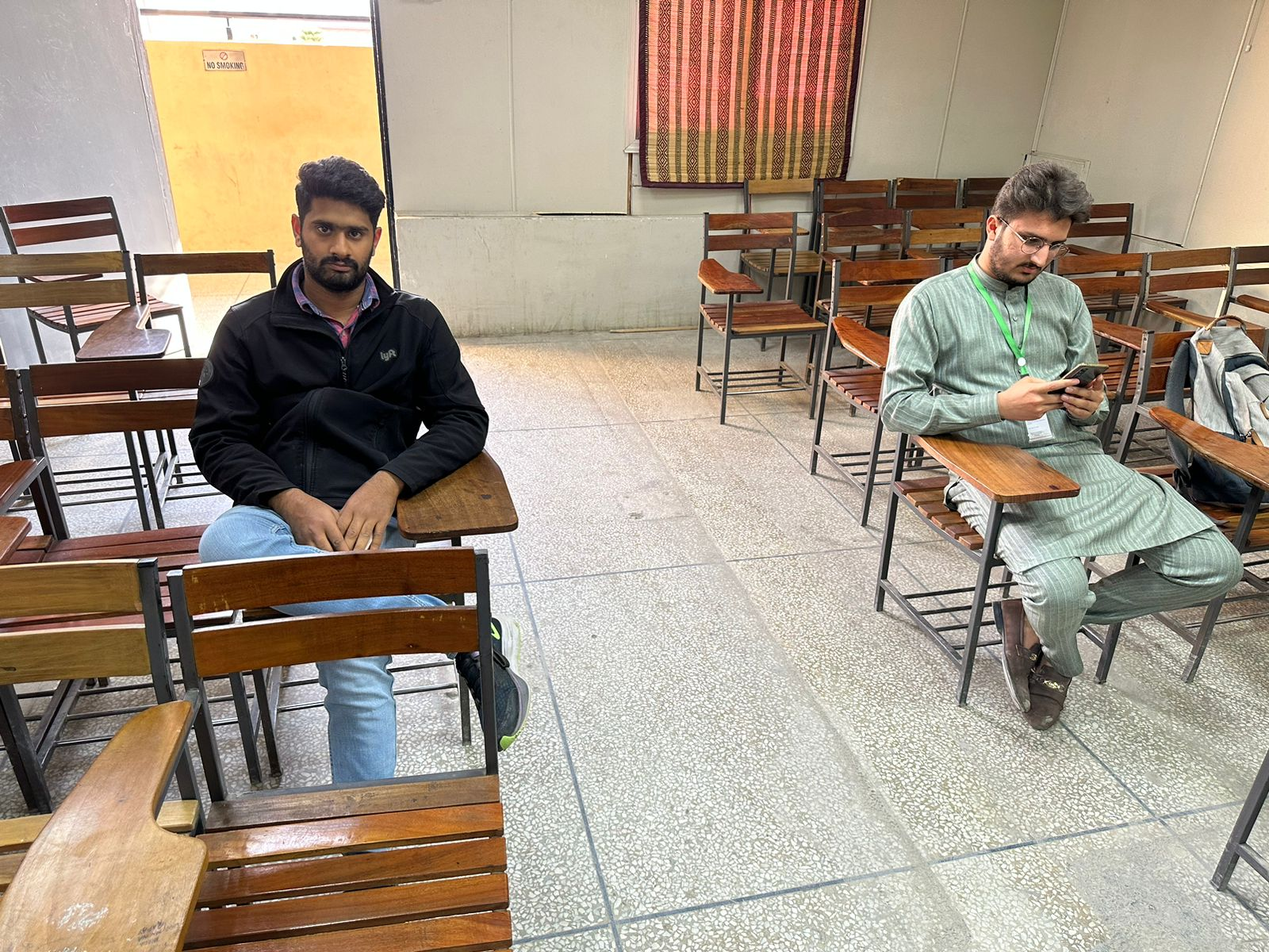non-cheating: (291, 155, 386, 293)
phone: (1008, 363, 1111, 420)
